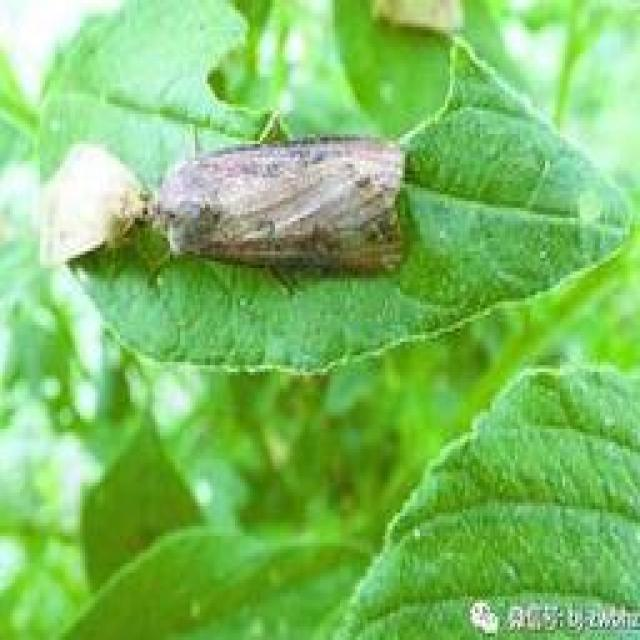BeetArmyWorm-Adult-: (130, 132, 419, 284)
